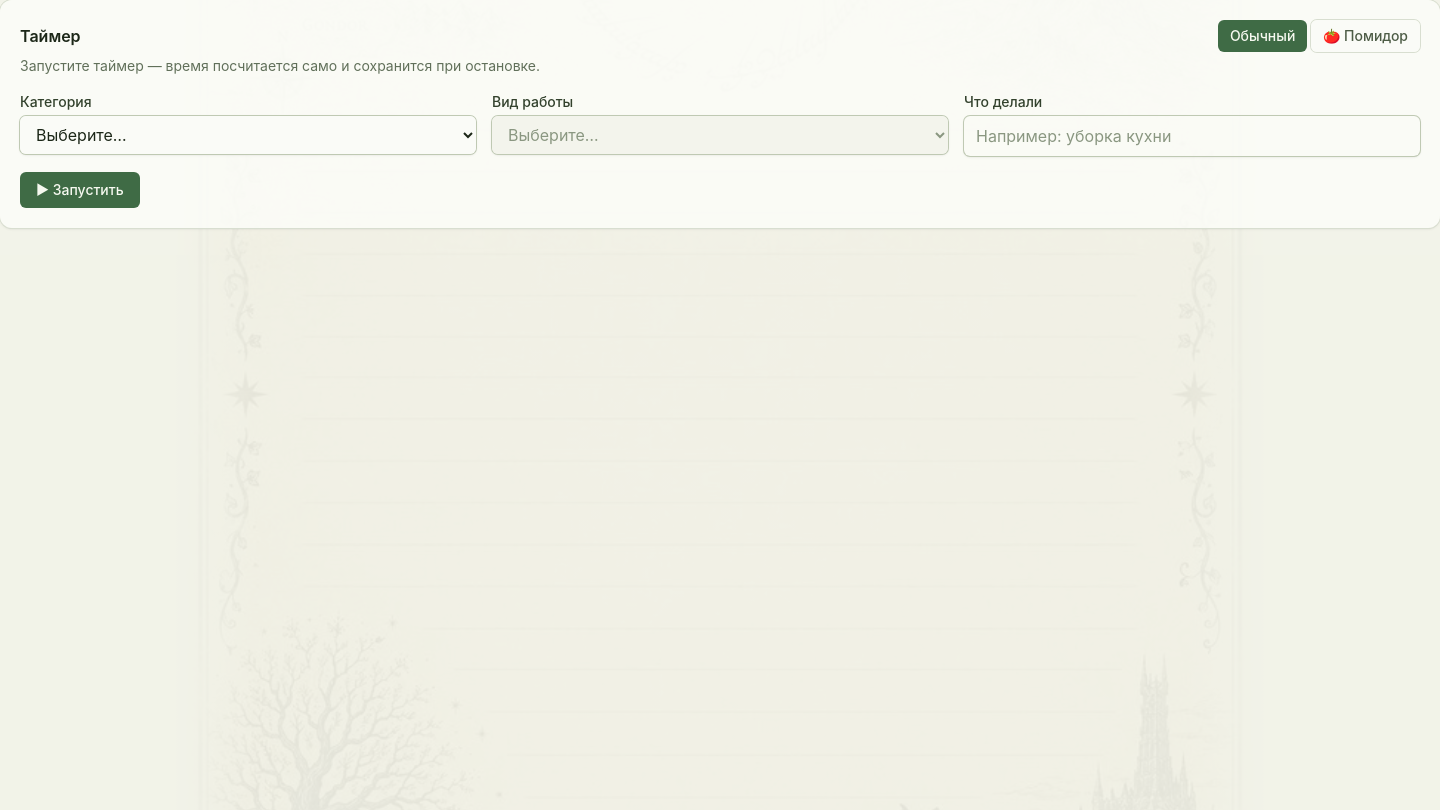
it: TimerCard › требует название перед запуском
The image size is (1440, 810).
Select "🏠 Домашние обязанности" in the dropdown labelled "Категория" at x=248, y=135, box [20,116,476,154]
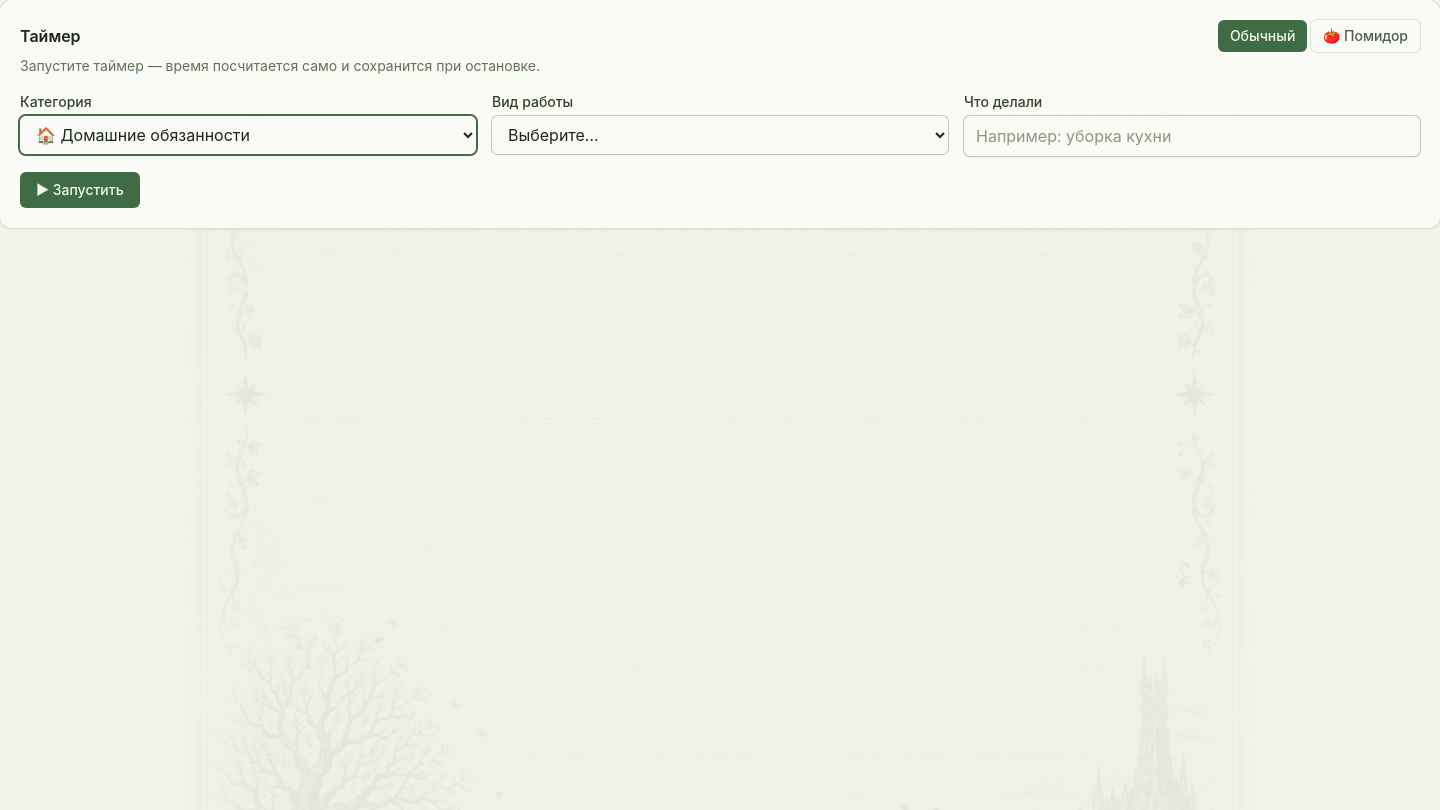
Select "Уборка" in the dropdown labelled "Вид работы" at x=720, y=135, box [492,116,948,154]
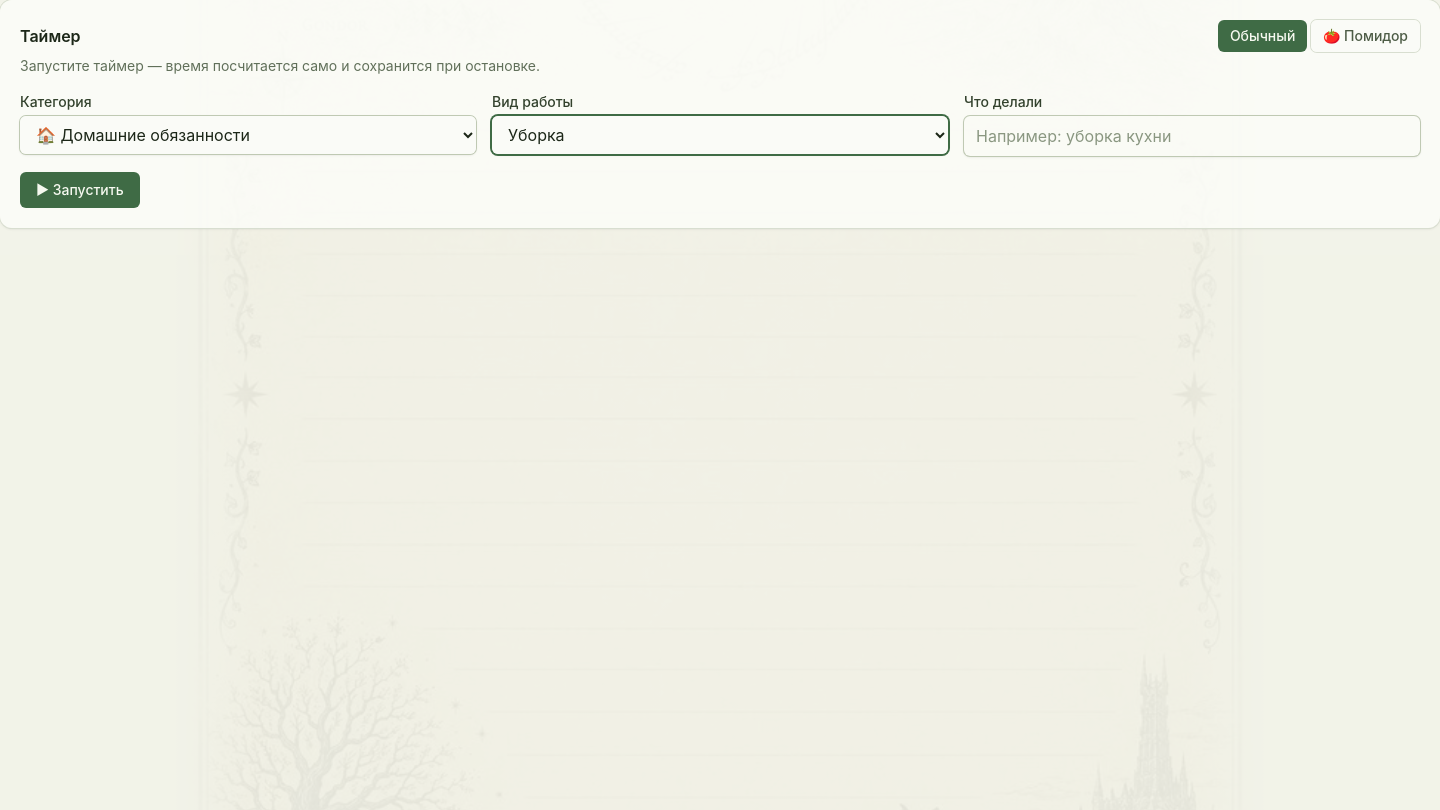
Click the button "▶ Запустить" at x=80, y=190, box [20,172,140,208]
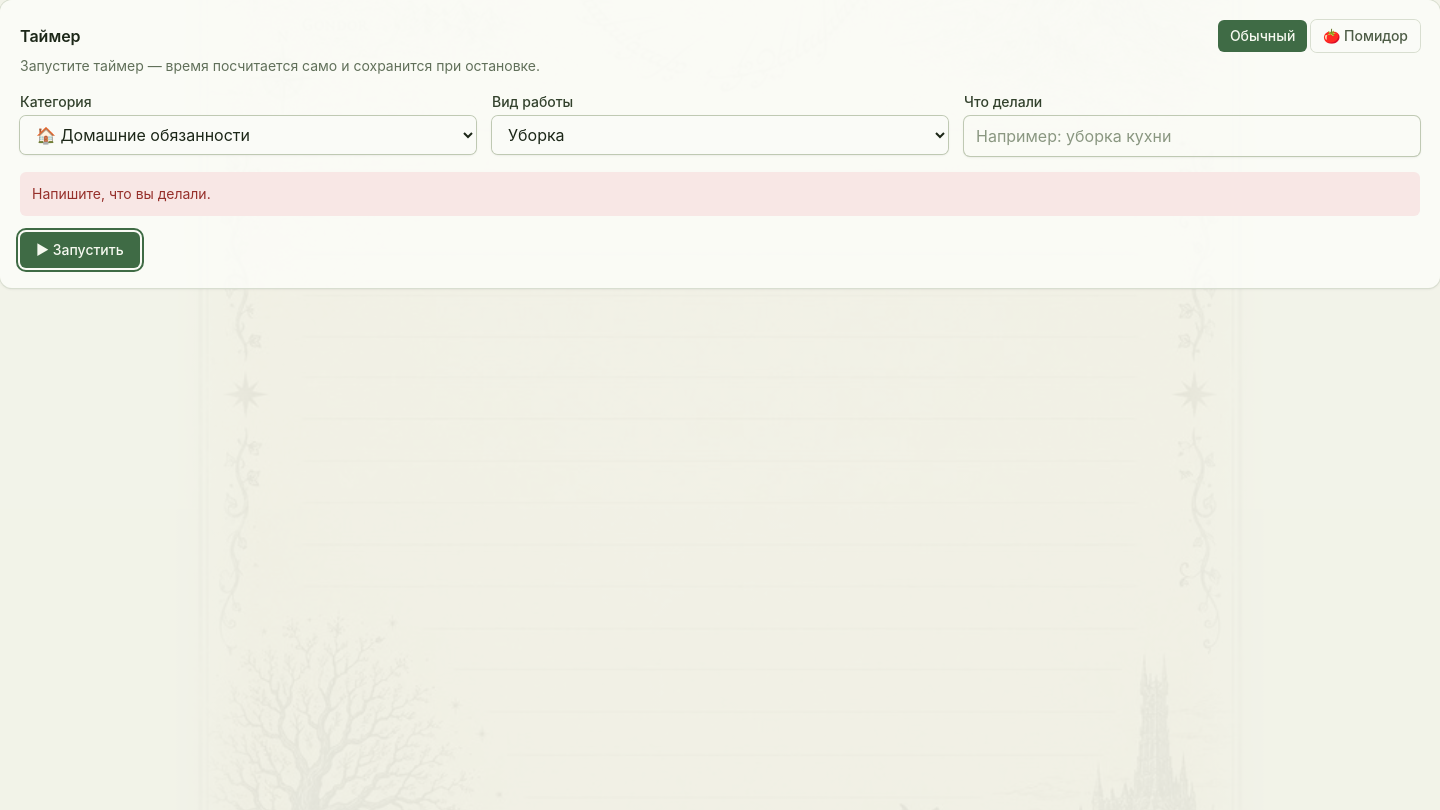
Now the message shows "Напишите, что вы делали", box [32,185,211,202]
